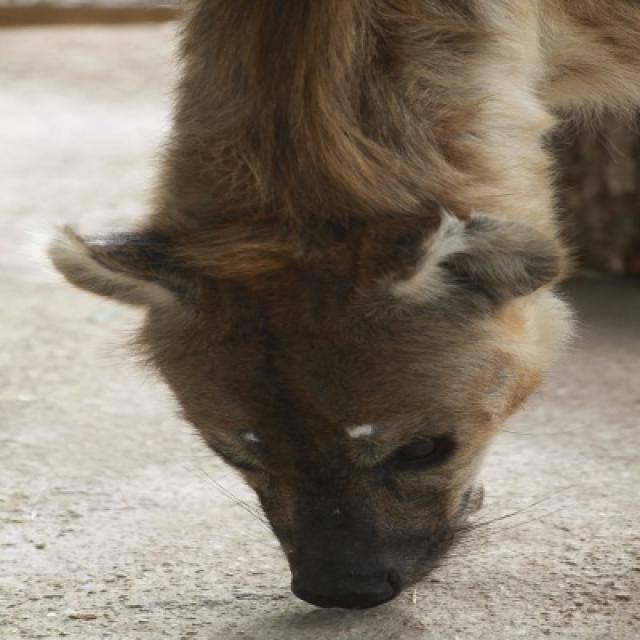hyena: (48, 0, 638, 611)
